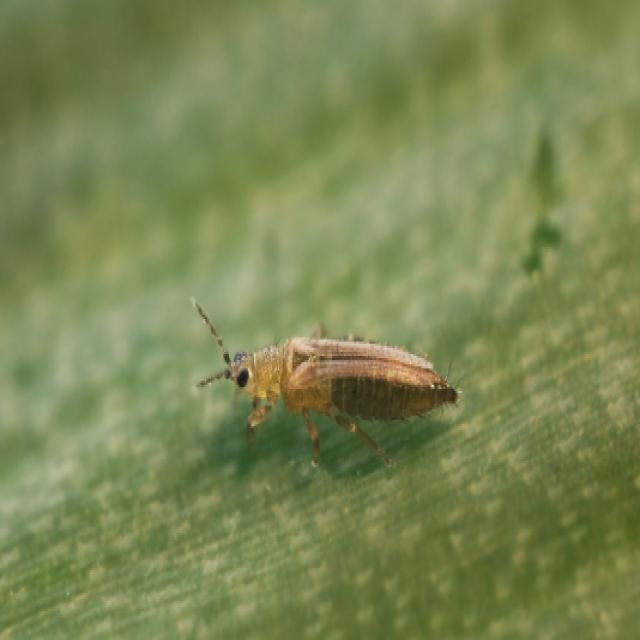ThripsTabaci: (166, 250, 491, 492)
